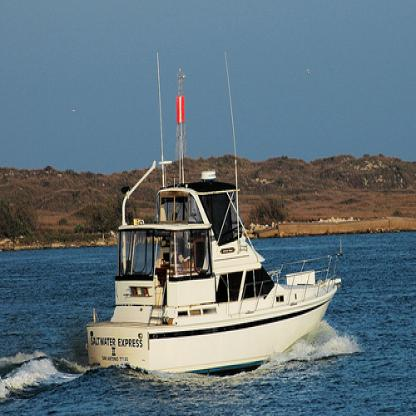boat: (85, 65, 342, 377)
